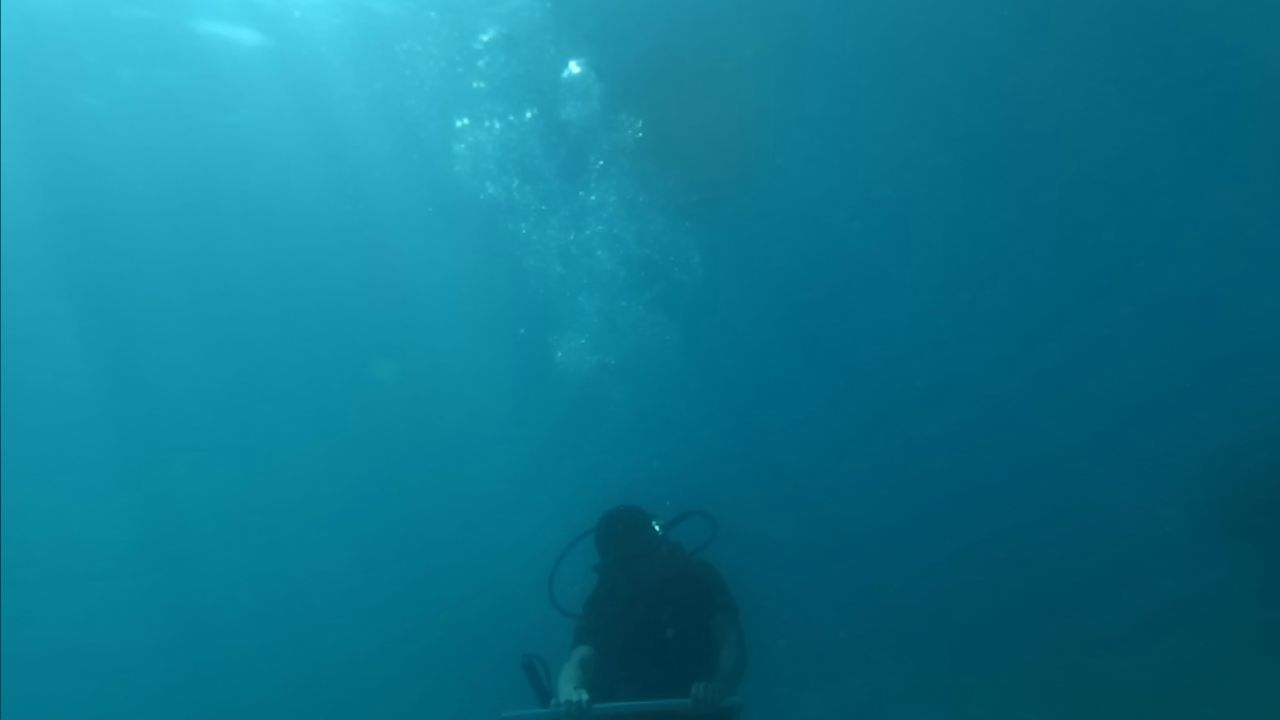Diver: (510, 470, 760, 712)
